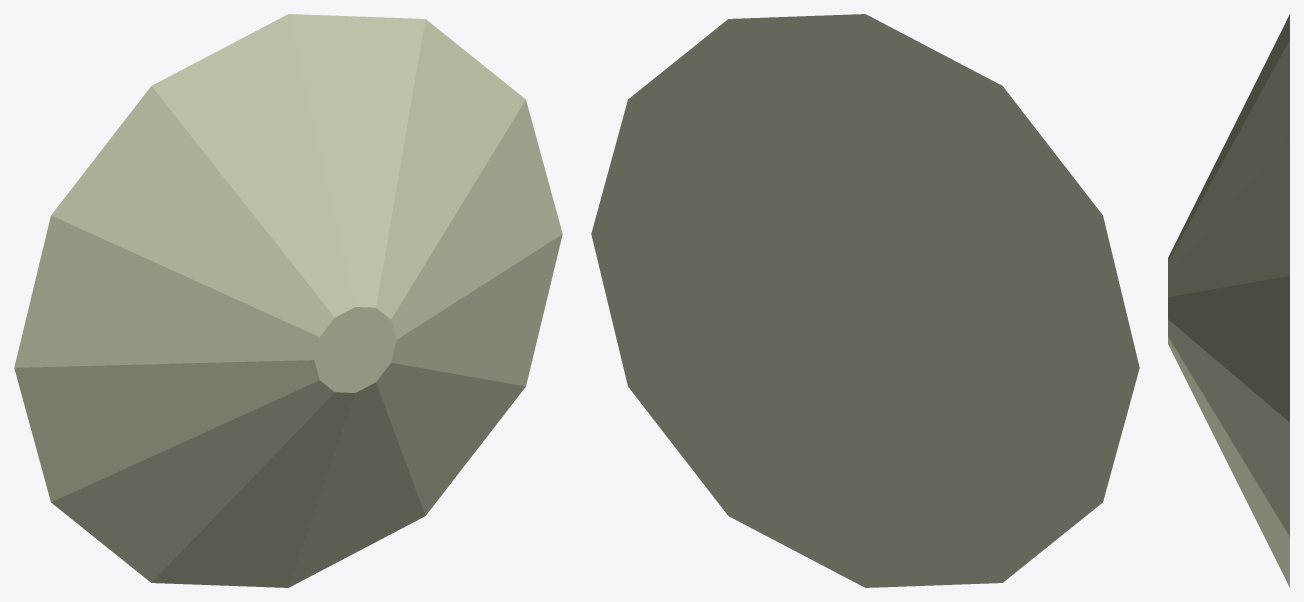
File: 4mv_v_high_gain_antenna_srf_1_collider.obj
3 renders of one model, left to right at view 1: azimuth 30°, elevation 25°; view 2: azimuth 150°, elevation 25°; view 3: azimuth 270°, elevation 25°, orthographic. The views are drawn at different scales.
Visible parts, largest first — view 1: collider; view 2: collider; view 3: collider.
Boxes of the visible parts, x1=… form: collider: x1=14, y1=14, x2=562, y2=587; collider: x1=591, y1=14, x2=1139, y2=587; collider: x1=1168, y1=14, x2=1289, y2=587.
Bounding box in the file's own units: 0.875 × 0.875 × 0.185.
